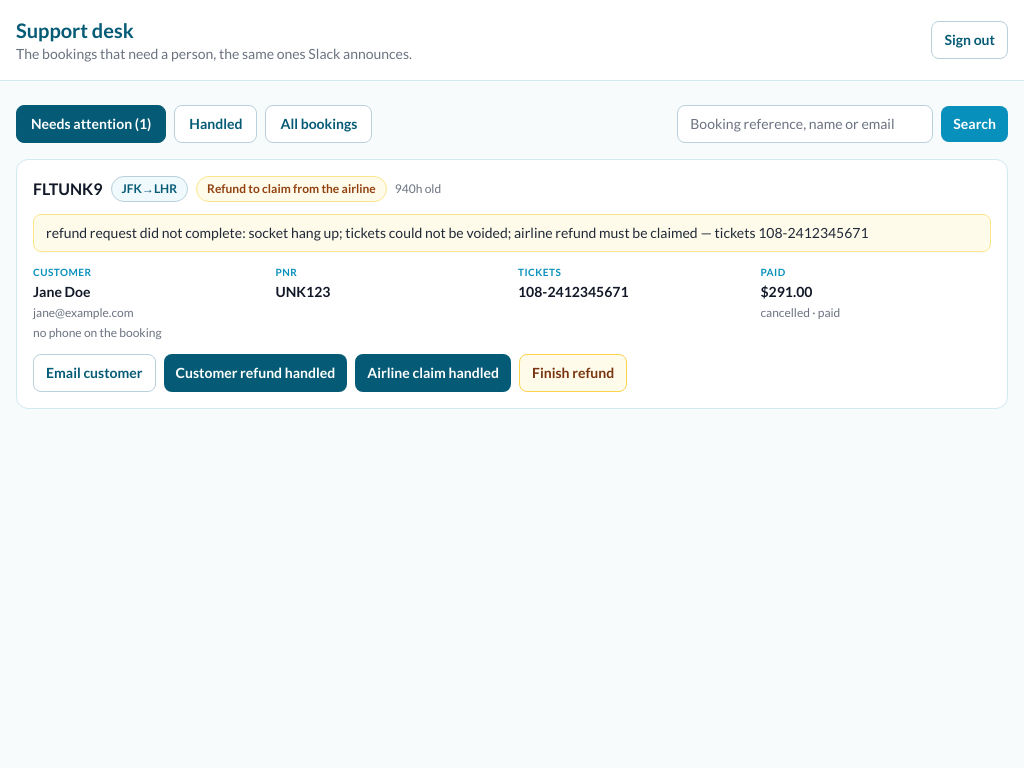
Test: beside it › a refund ARC Pay refused keeps its own words: nothing about a refund never answered
Check: the heading "FLTUNK9" is shown, box [33,177,103,201]
Click the button "Customer refund handled" at (255, 373), box [164,354,347,392]
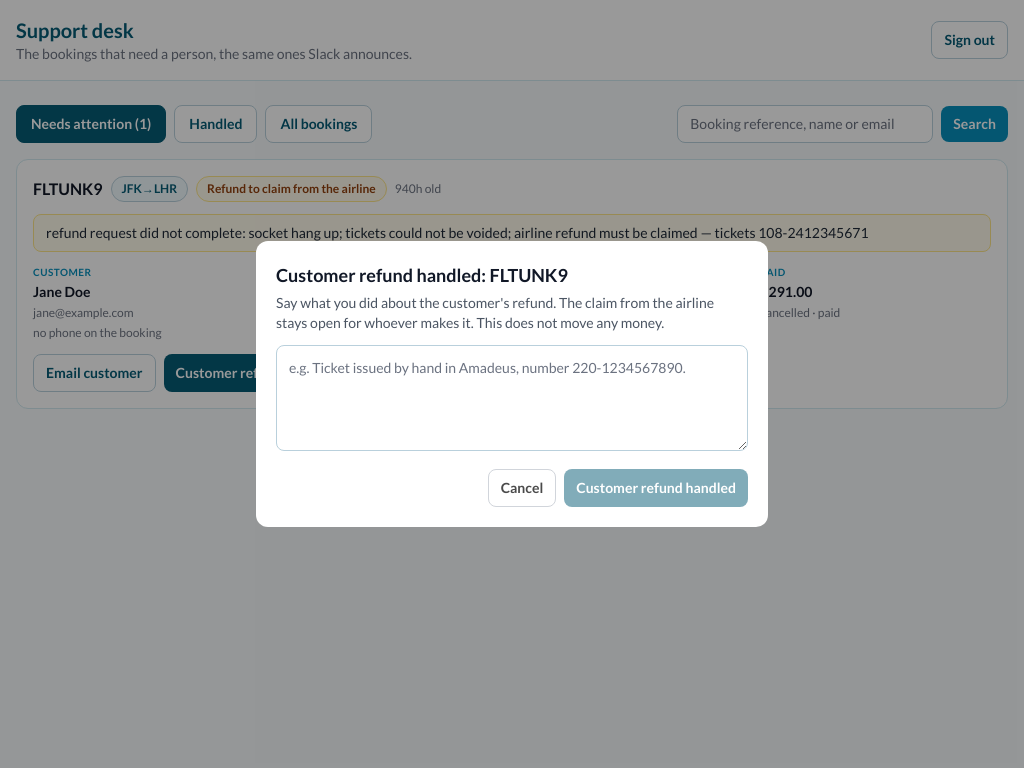
Check: the dialog shows "claim from the airline stays open", box [276,294,714,331]
